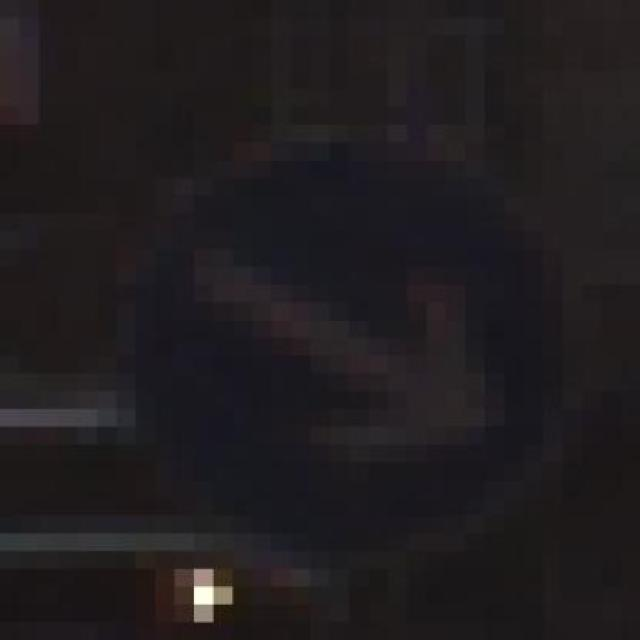Keep-Right: (116, 125, 601, 569)
